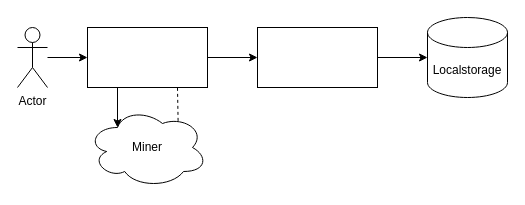
The diagram is 525 pixels wide and 205 high, and some of its shapes have lost their labels. Here are the shapes that lost their labels. From the top down, the centre of each, then its label:
the point at 147,57: RunAction (ActionPopup)
the point at 317,57: Create and save process object
